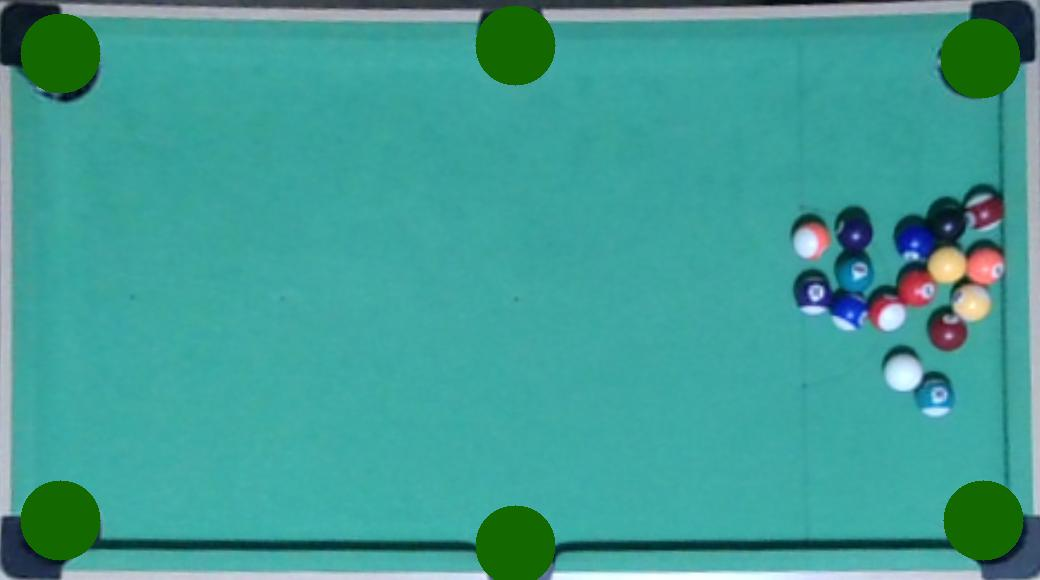Ball: (789, 216, 834, 261), (792, 269, 836, 315), (914, 373, 957, 419), (892, 219, 937, 261), (896, 265, 939, 307), (834, 251, 878, 292), (966, 189, 1006, 234), (829, 291, 873, 331), (833, 208, 874, 250), (881, 353, 925, 392), (926, 311, 967, 350), (949, 285, 991, 321), (930, 201, 966, 243), (968, 248, 1006, 284), (929, 249, 966, 284), (873, 294, 906, 333)
